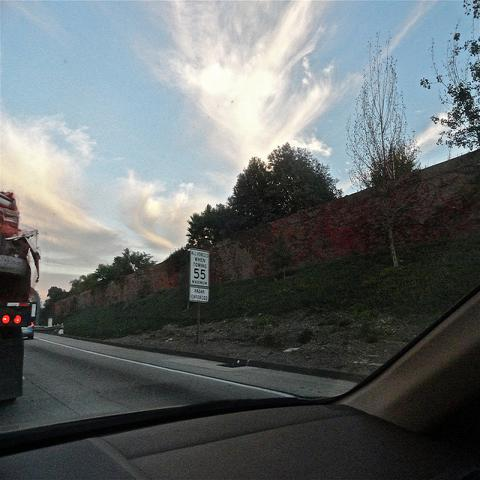car: (22, 321, 35, 339)
truck: (1, 194, 39, 408), (22, 289, 38, 341)
